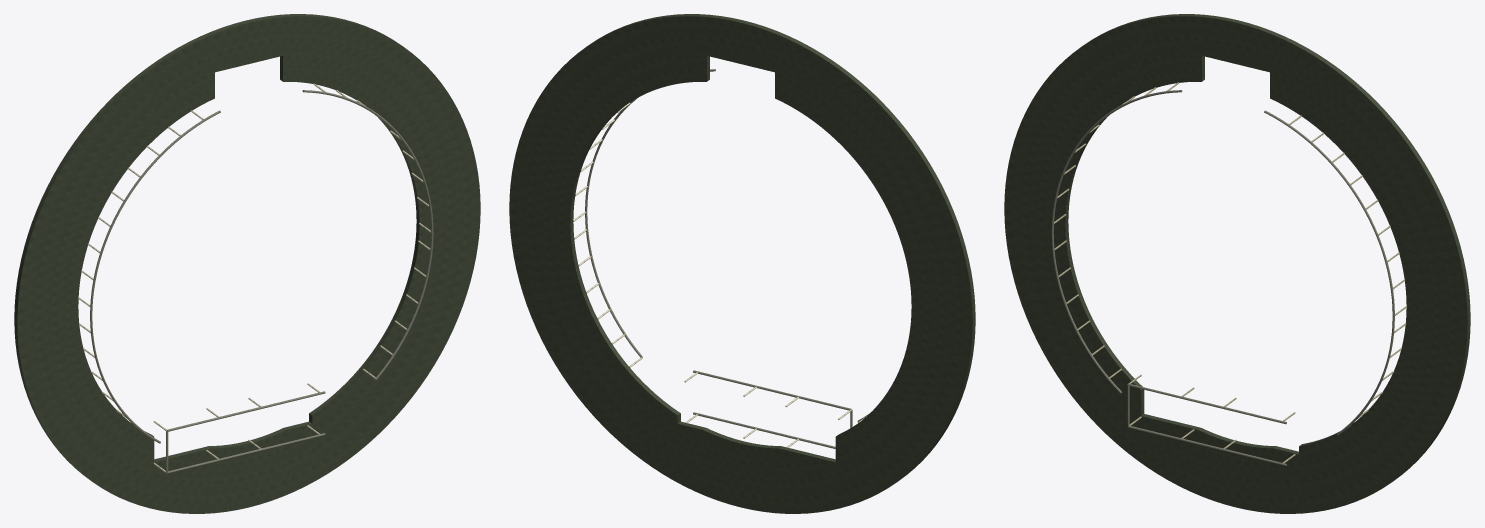
File: ECHO7_27_Balcon_Habitat.obj
The picture shows the model from 3 angles, left to right: view 1: azimuth 30°, elevation 25°; view 2: azimuth 150°, elevation 25°; view 3: azimuth 330°, elevation 25°; orthographic projection.
Size of the model in its own units: 22 by 22 by 1.35.
3 materials, 3 textured.
